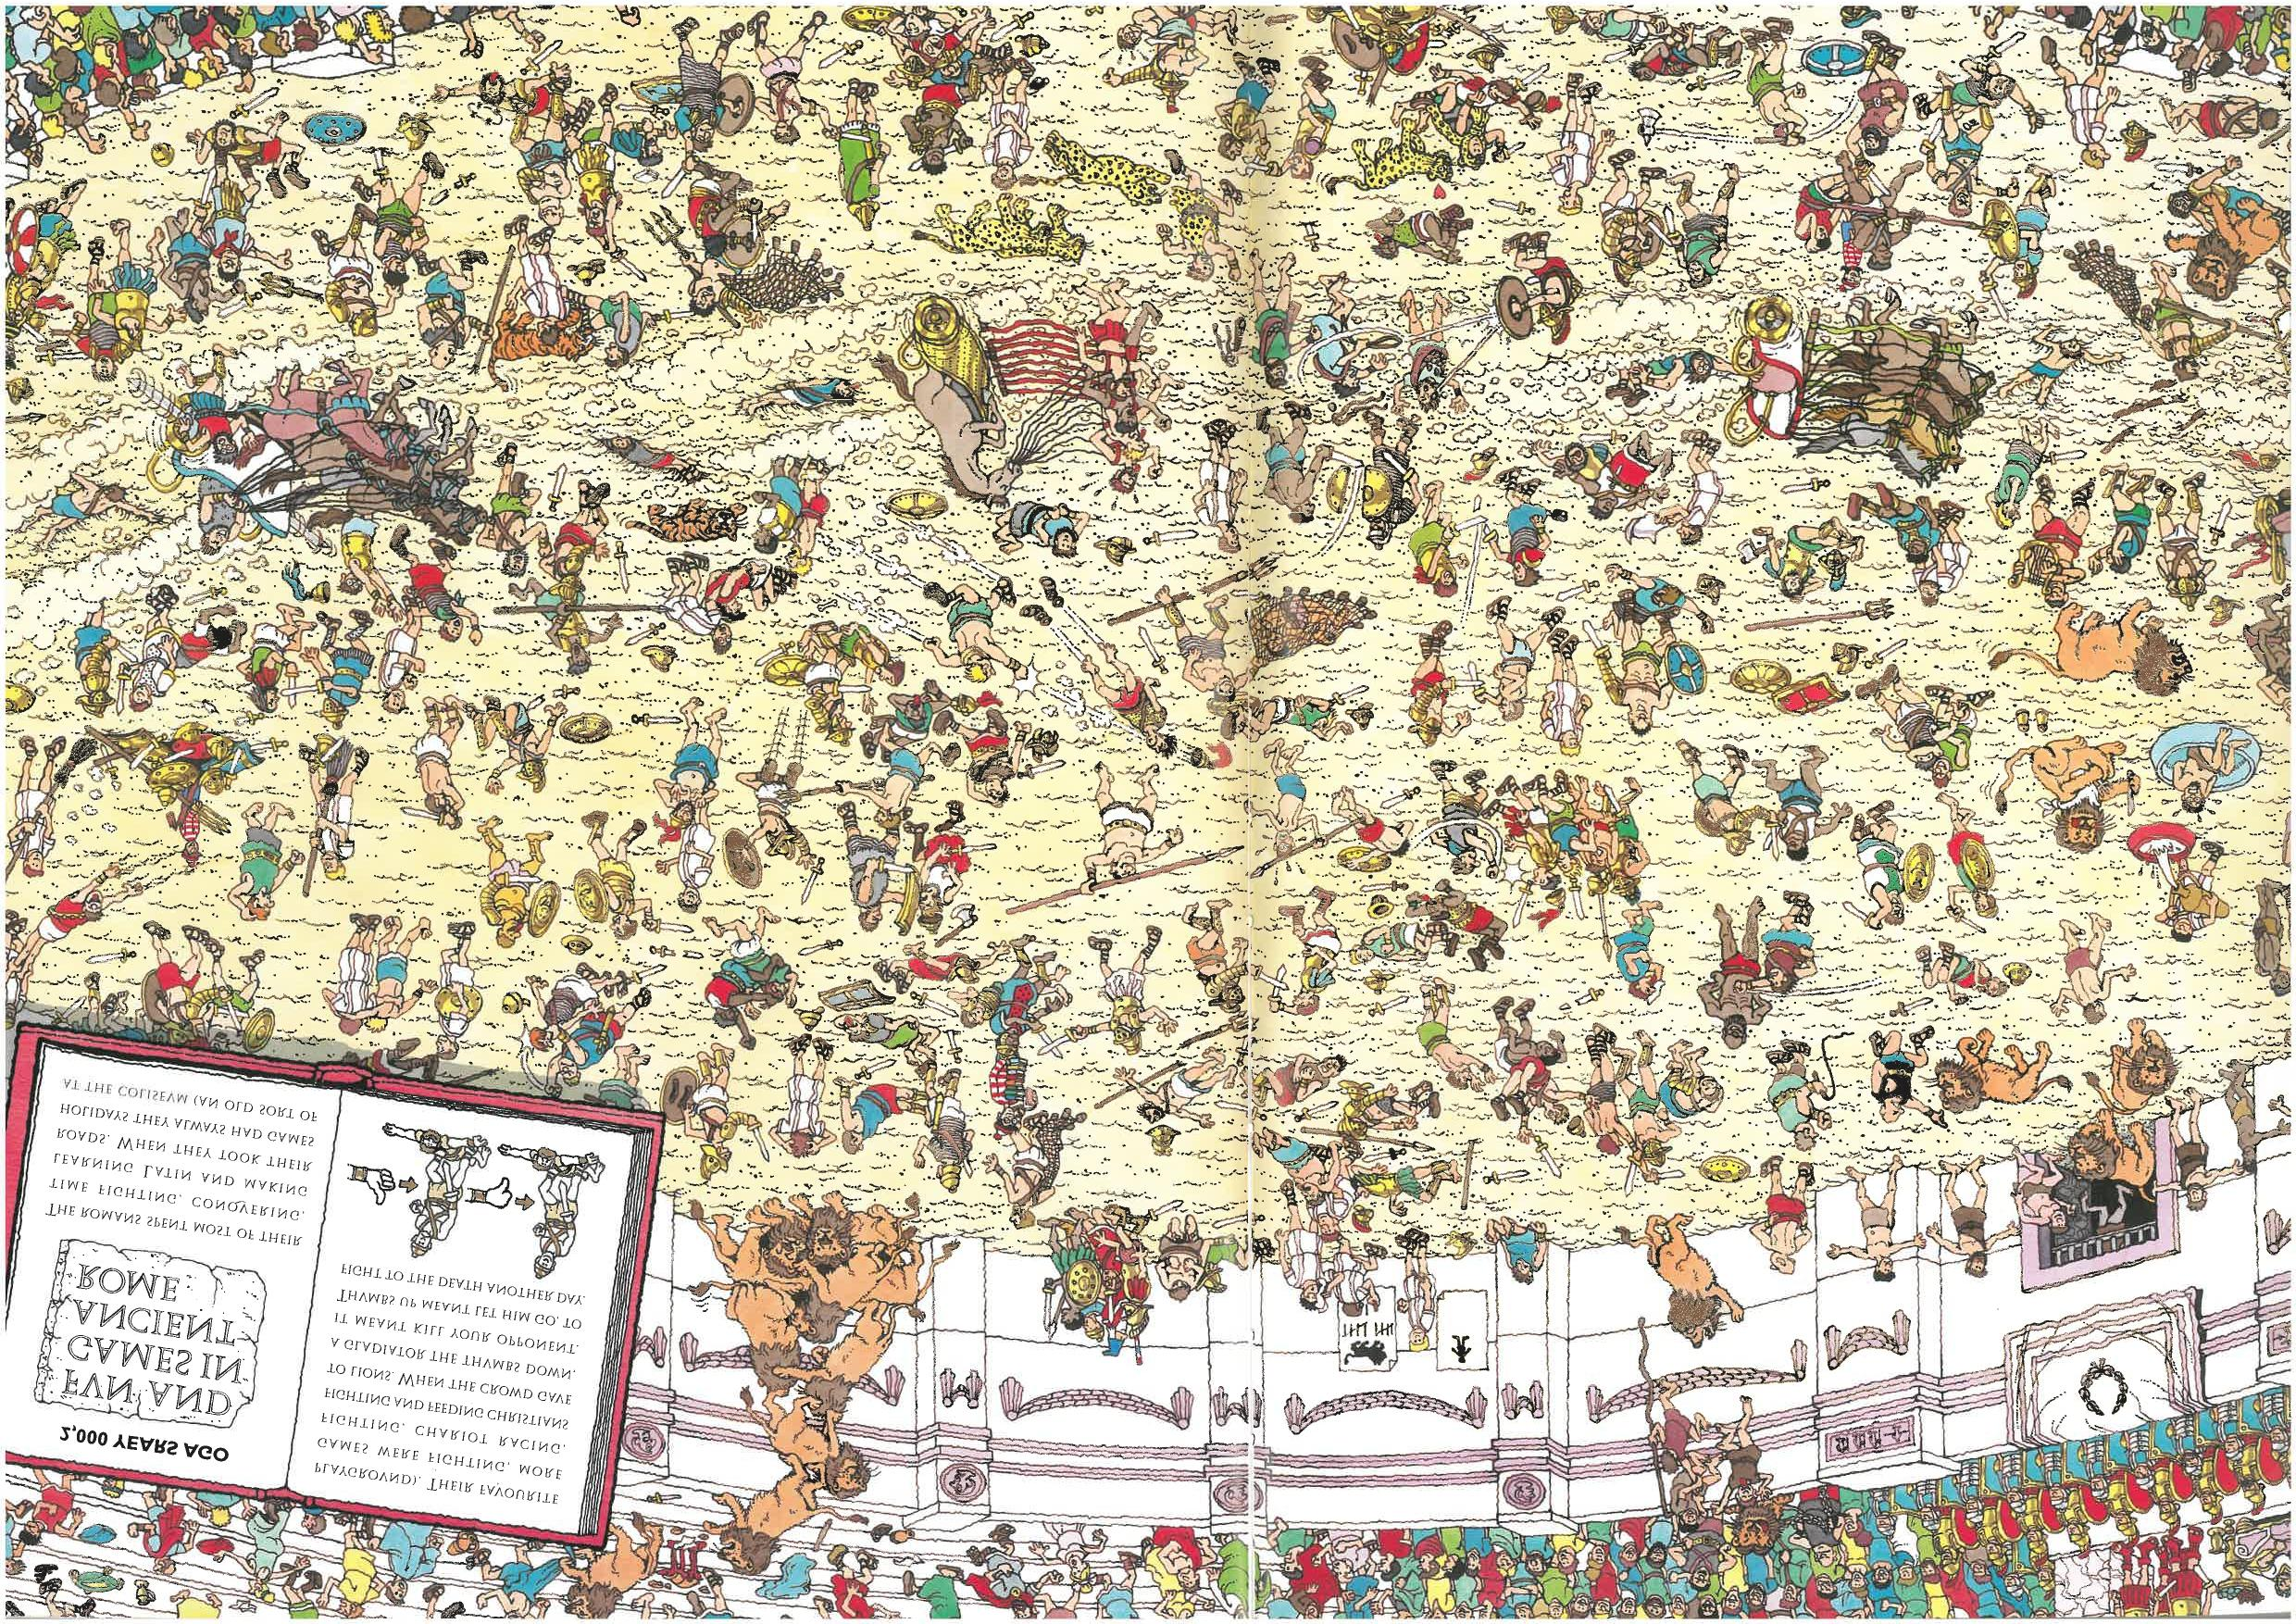waldos: (989, 1039, 1038, 1144)
